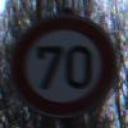speed_limit_70: (10, 12, 118, 117)
